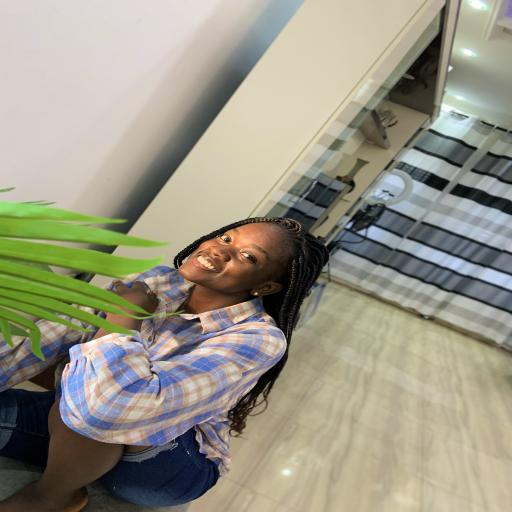LAURENE: (167, 204, 338, 320)
